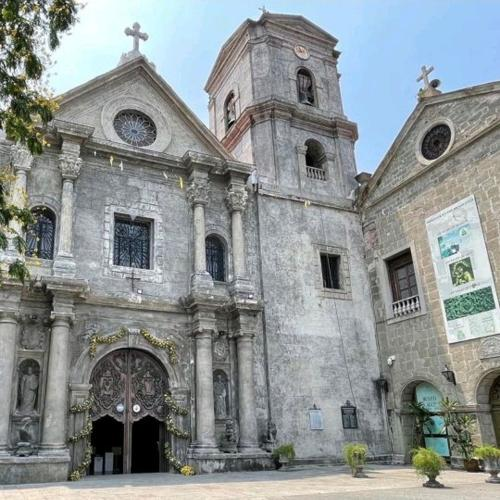San Agustin Church: (57, 7, 382, 477)
